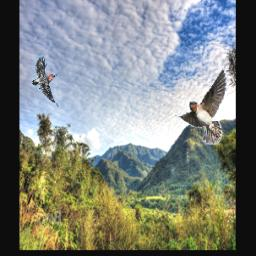Swallow: (174, 66, 227, 145)
Woodpecker: (32, 56, 61, 107)
